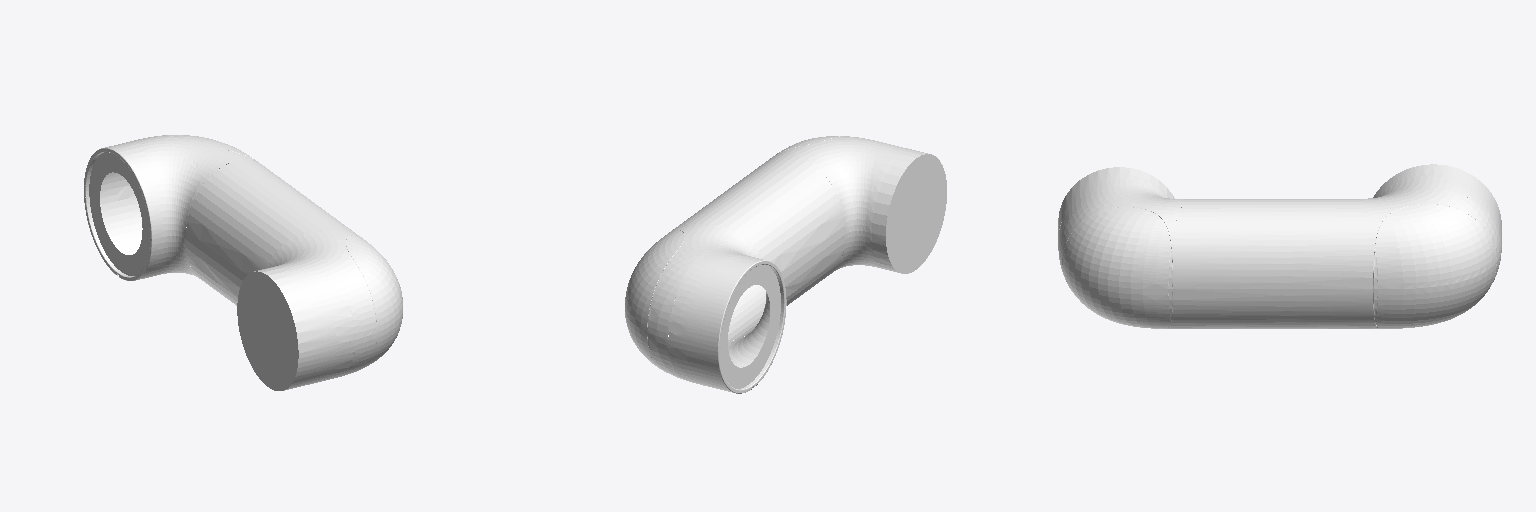
The model's file is joint3.obj.
The picture shows the model from 3 angles: view 1: azimuth 30°, elevation 25°; view 2: azimuth 150°, elevation 25°; view 3: azimuth 270°, elevation 25°; orthographic projection.
Size of the model in its own units: 0.0554 by 0.048 by 0.156.